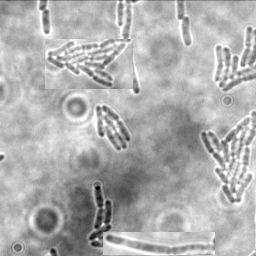Dividing: (103, 232, 215, 255), (123, 1, 142, 95), (41, 8, 52, 35)
Microcolony: (200, 109, 255, 205), (45, 39, 133, 89), (212, 25, 255, 94), (89, 184, 126, 248), (96, 103, 132, 150), (182, 16, 193, 48)
